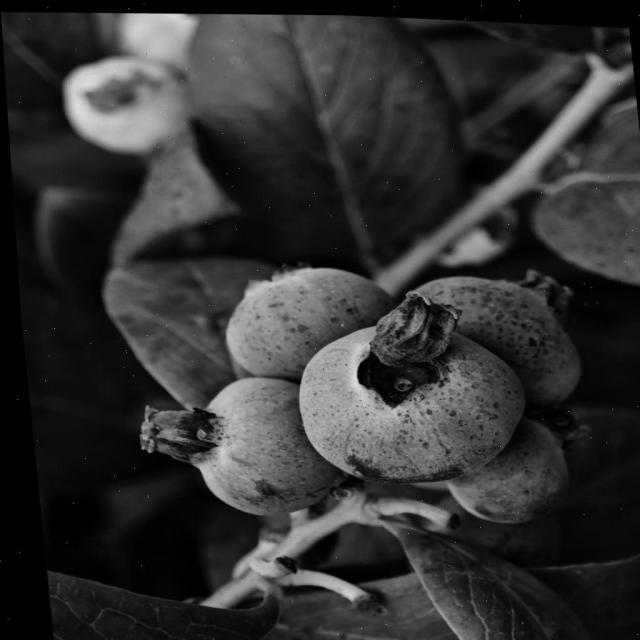RipeBlueBerry: (280, 304, 532, 492), (162, 367, 332, 520)
